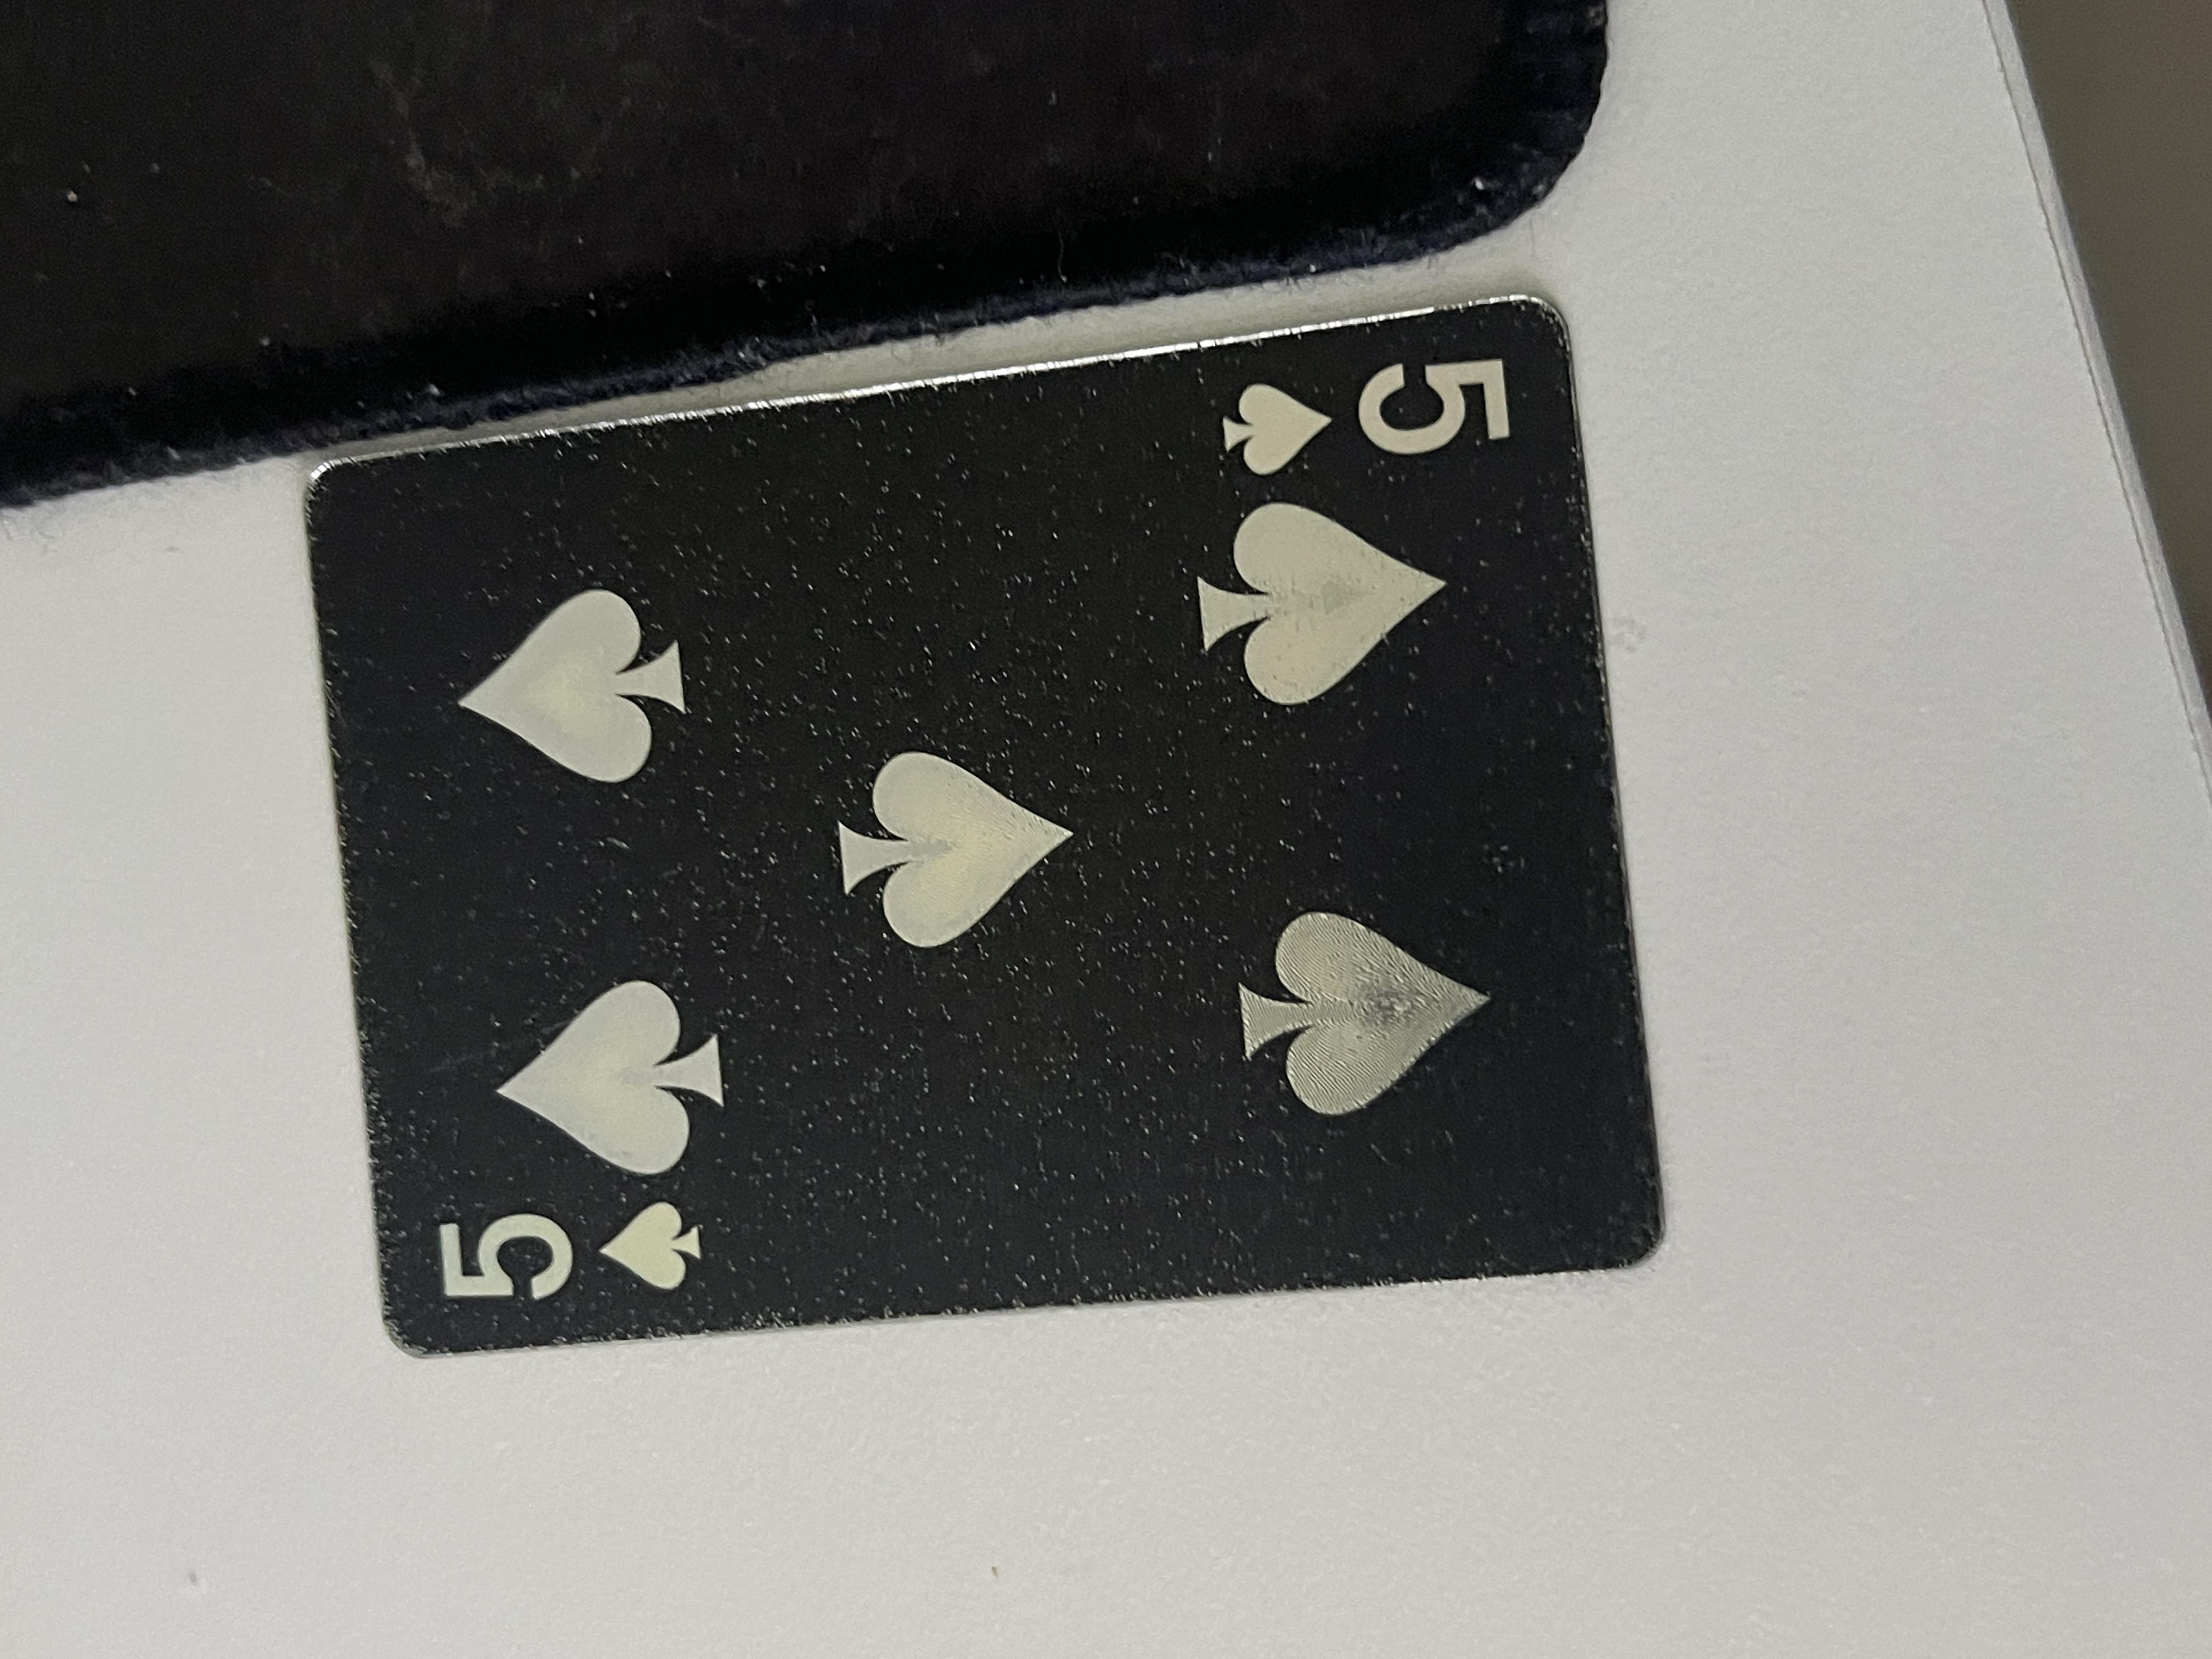5S: (442, 317, 655, 561), (1550, 904, 1763, 1140)
